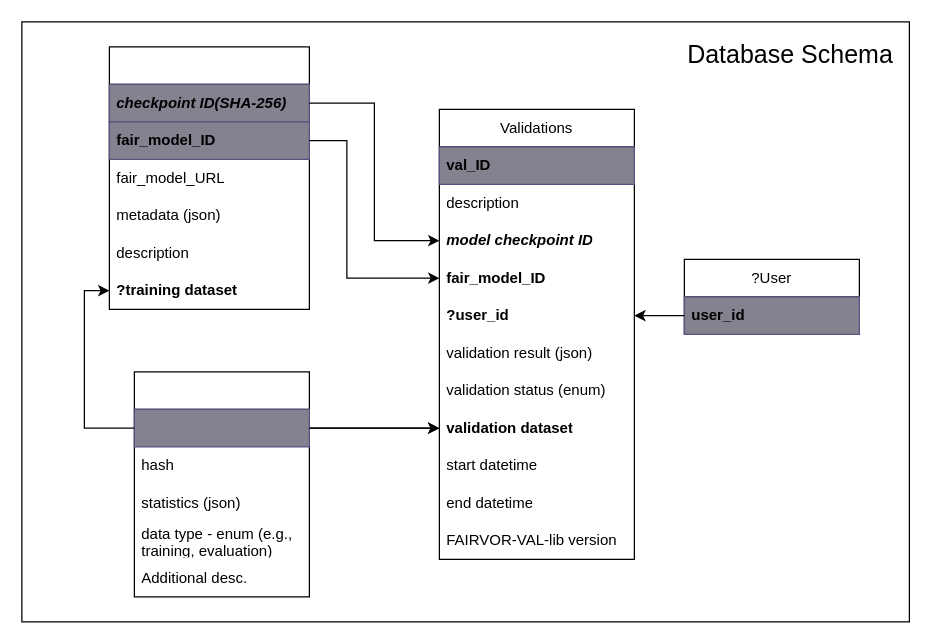
Some shapes in this 931 by 644 pixel diagram are drawn without their labels. Here are the shapes that lost their labels. From the top down, the box of each, then its label:
(108, 46, 309, 309): Model checkpoints
(133, 408, 309, 447): ds_id
(133, 371, 309, 597): Data statistics
